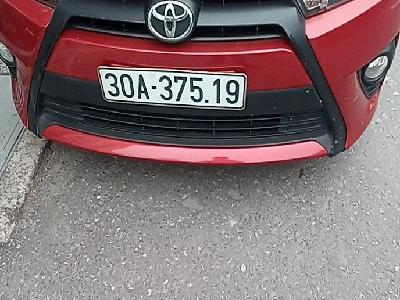lisence: (97, 65, 248, 112)
